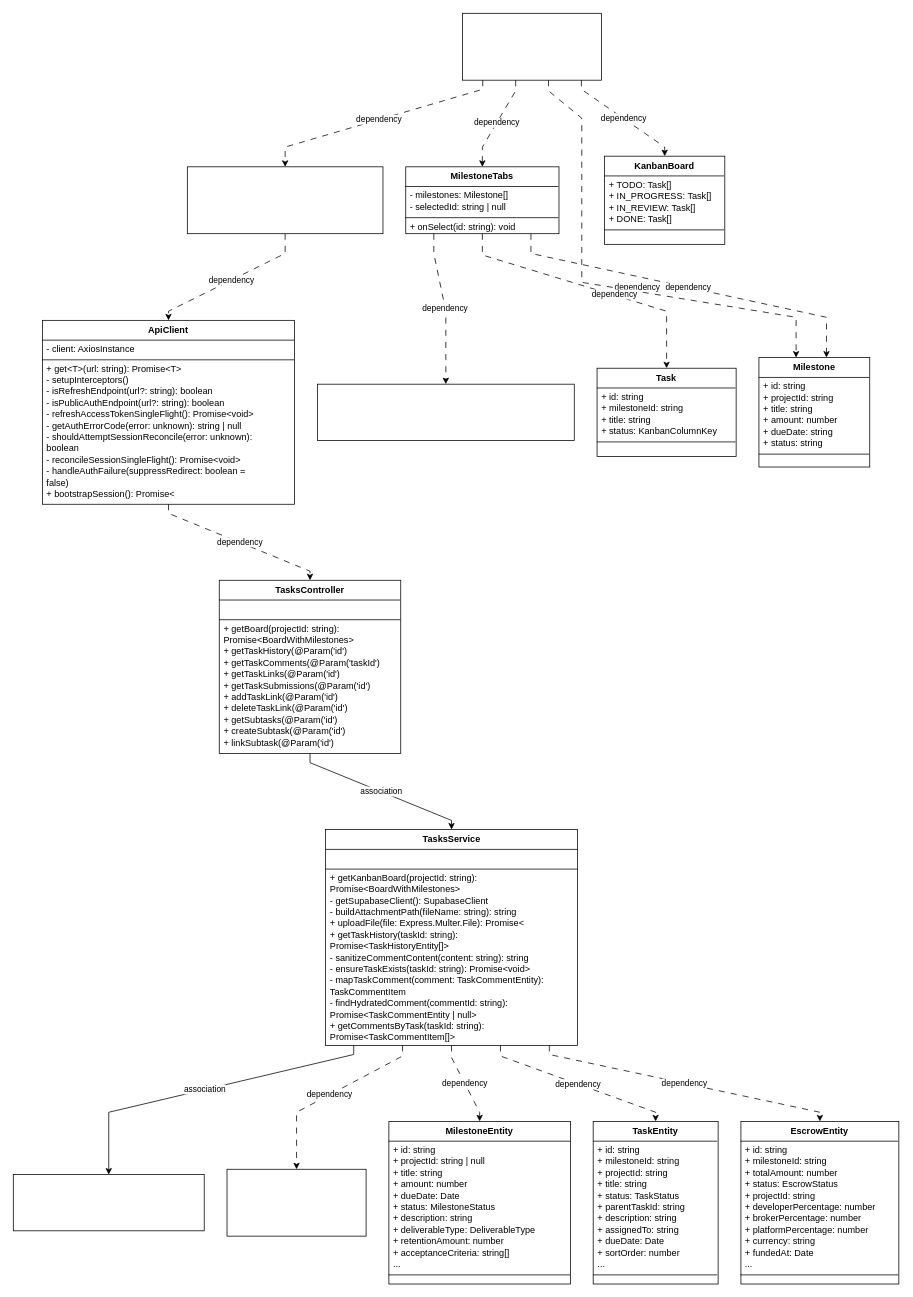
Image size: 913x1297. Some labels were removed from this diagram. The shapes that lost their labels are listed below. From the top down, each one's centre as x and y in pixels, then its label:
At [532,46]: "ProjectWorkspace - milestones: Milestone[] - board: KanbanBoard".
At [285,200]: "fetchMilestones + fetchMilestones(projectId: string): Promise<Milestone[]>".
At [445,411]: "calculateProgress + calculateProgress(tasks?: Task[] | null): number".
At [108,1202]: "Repository + find(options: any): Promise<any[]>".
At [296,1202]: "BoardWithMilestones + tasks: KanbanBoard + milestones: Milestone[]".
